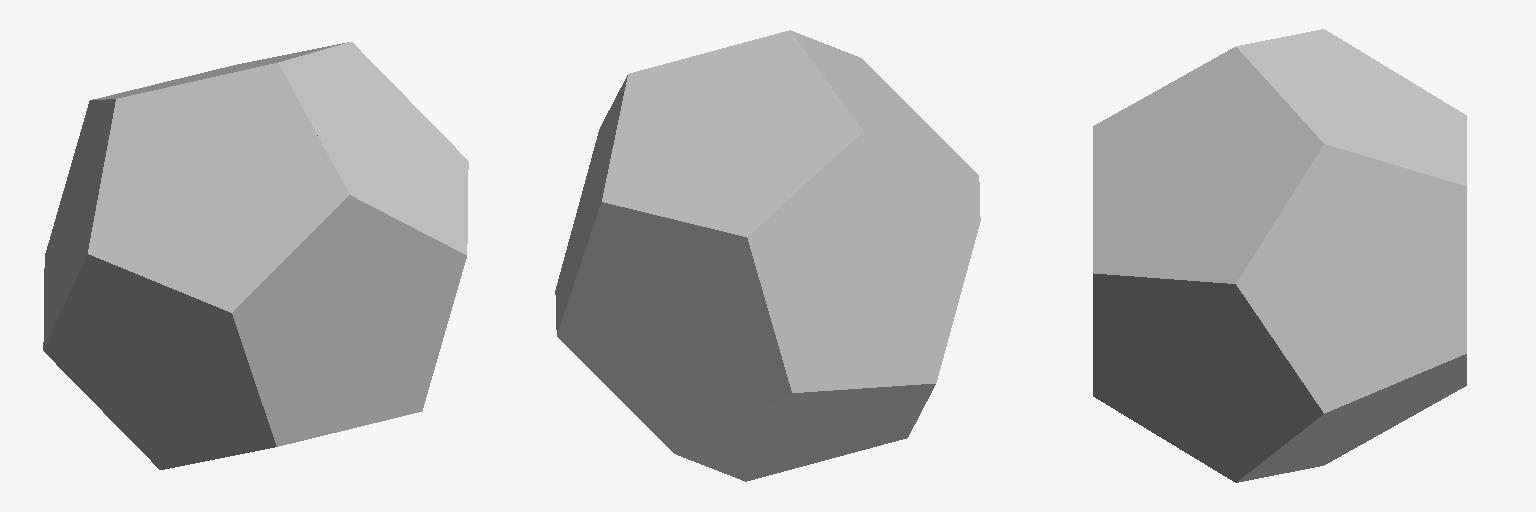
File: DODECAHEDRON.obj
3 views of the same model, side by side, from view 1: azimuth 30°, elevation 25°; view 2: azimuth 150°, elevation 25°; view 3: azimuth 270°, elevation 25° (orthographic).
Parts seen in each view (by area): view 1: Object.1; view 2: Object.1; view 3: Object.1.
Boxes of the visible parts, box(x1,y1,x2,y2) form: Object.1: box(43, 42, 468, 469); Object.1: box(555, 30, 980, 481); Object.1: box(1093, 29, 1466, 482).
Size of the model in its own units: 52.36 by 55.06 by 44.54.